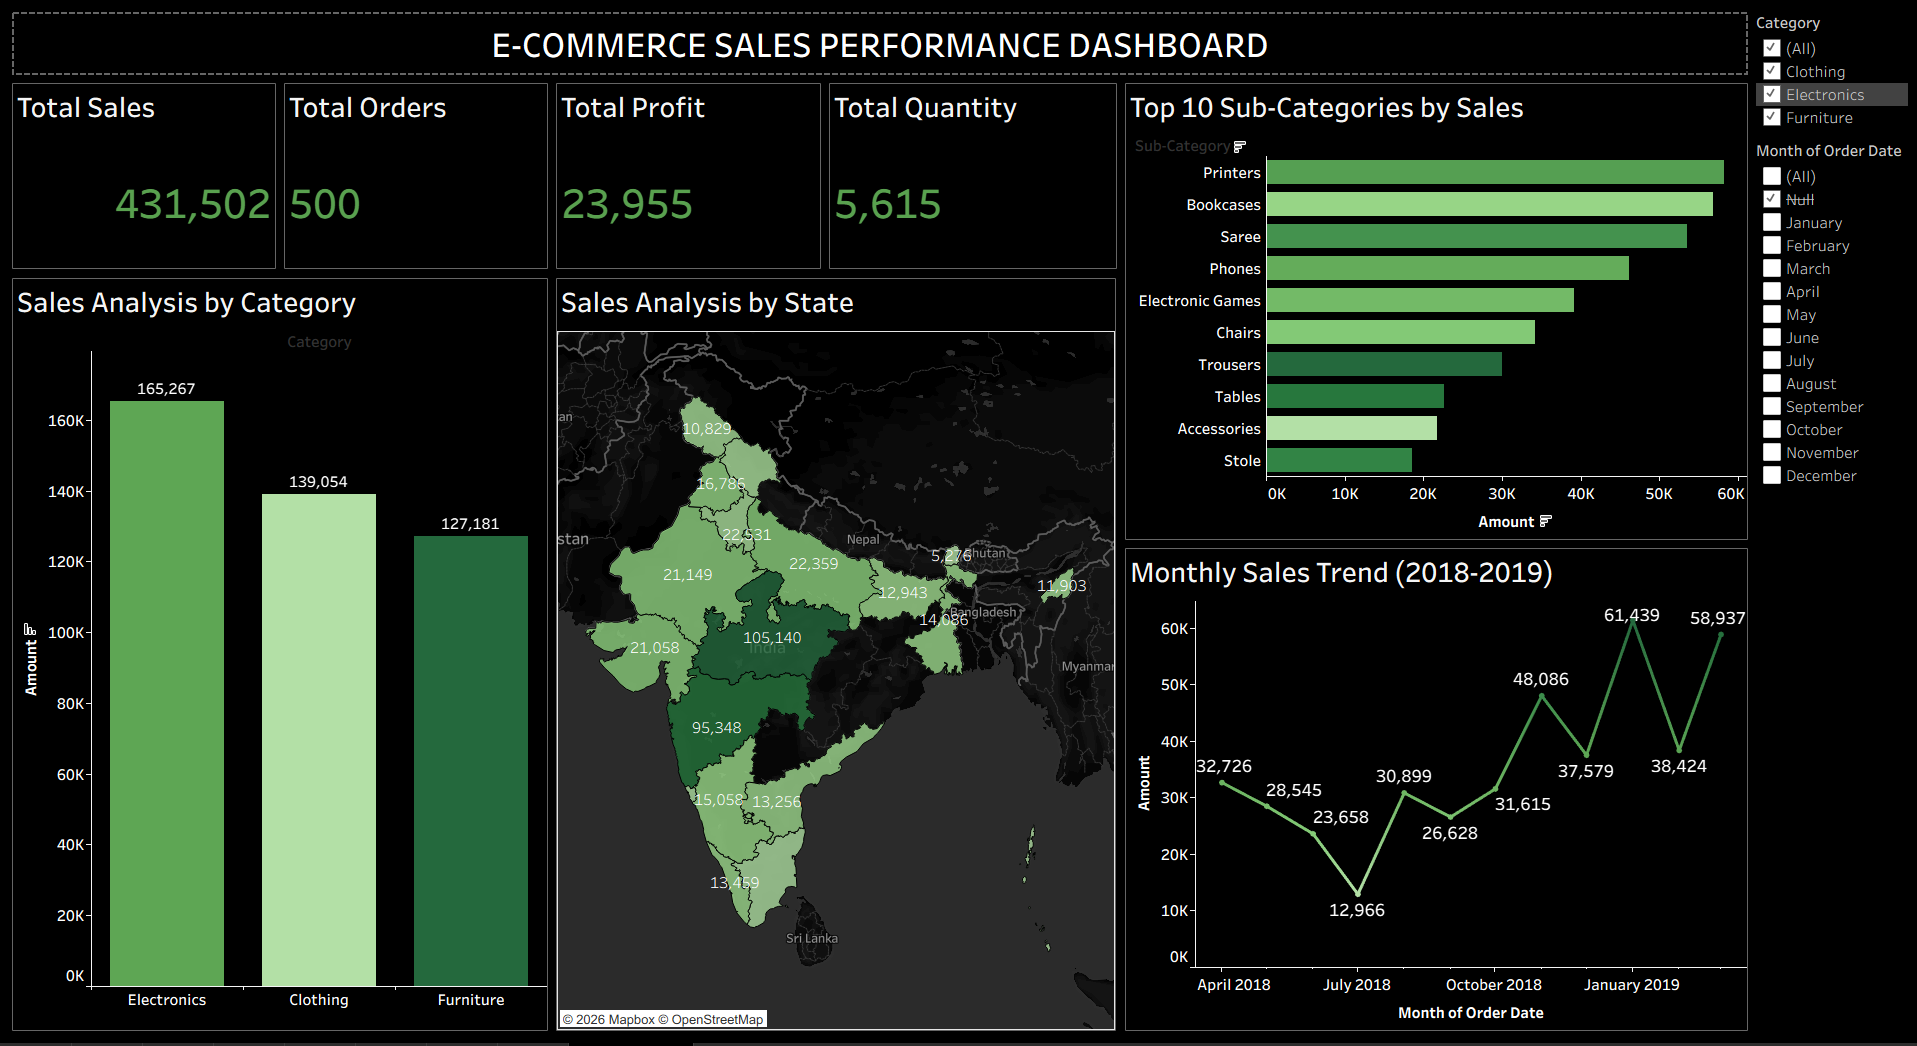

The page's visual inventory and layout, read from the dashboard file:
{"tool":"tableau","page":{"name":"Dashboard 1","canvas":[1000,1000],"units":"permille","ordinal":0},"visuals":[{"type":"text","box":[4.8,9.4,893.8,68]},{"type":"filter","title":"Sheet 1","param":"[federated.0t0rklv0cu3u1l15phc7o02ckkaw].[none:Category:nk]","box":[898.6,9.4,96.6,150.4]},{"type":"worksheet","title":"Sheet 5","mark":"Automatic","box":[4.8,77.4,139.5,185.8]},{"type":"worksheet","title":"Sheet 7","mark":"Automatic","box":[144.3,77.4,139.3,185.8]},{"type":"worksheet","title":"Sheet 6","mark":"Automatic","box":[283.6,77.4,139.8,185.8]},{"type":"worksheet","title":"Sheet 8","mark":"Automatic","box":[423.4,77.4,151.7,185.8]},{"type":"worksheet","title":"Sheet 3","mark":"Automatic","rows":["Sub-Category"],"cols":["Amount"],"box":[575.1,77.4,323.6,443.9]},{"type":"filter","title":"Sheet 2","param":"[federated.0t0rklv0cu3u1l15phc7o02ckkaw].[mn:Order Date:ok]","box":[898.6,159.8,96.6,420.7]},{"type":"worksheet","title":"Sheet 1","mark":"Automatic","rows":["Amount"],"cols":["Category"],"box":[4.8,263.2,279,727.4]},{"type":"worksheet","title":"Sheet 4","mark":"Automatic","box":[283.8,263.2,291.2,727.4]},{"type":"worksheet","title":"Sheet 2","mark":"Line","rows":["Amount"],"cols":["Order Date"],"box":[575.1,521.3,323.6,469.3]}]}

Visuals, with their boxes on the dashboard's canvas, which has no fixed pixel size, in thousandths of its width and height (x1, y1, x2, y2). These are canvas units, not pixel positions in the 1917x1046 screenshot, which may show the page scaled, cropped or inside an application window:
text: pyautogui.locateOnScreen(5, 9, 899, 77)
"Sheet 1" filter: pyautogui.locateOnScreen(899, 9, 995, 160)
"Sheet 5" worksheet: pyautogui.locateOnScreen(5, 77, 144, 263)
"Sheet 7" worksheet: pyautogui.locateOnScreen(144, 77, 284, 263)
"Sheet 6" worksheet: pyautogui.locateOnScreen(284, 77, 423, 263)
"Sheet 8" worksheet: pyautogui.locateOnScreen(423, 77, 575, 263)
"Sheet 3" worksheet: pyautogui.locateOnScreen(575, 77, 899, 521)
"Sheet 2" filter: pyautogui.locateOnScreen(899, 160, 995, 580)
"Sheet 1" worksheet: pyautogui.locateOnScreen(5, 263, 284, 991)
"Sheet 4" worksheet: pyautogui.locateOnScreen(284, 263, 575, 991)
"Sheet 2" worksheet (Line marks): pyautogui.locateOnScreen(575, 521, 899, 991)
